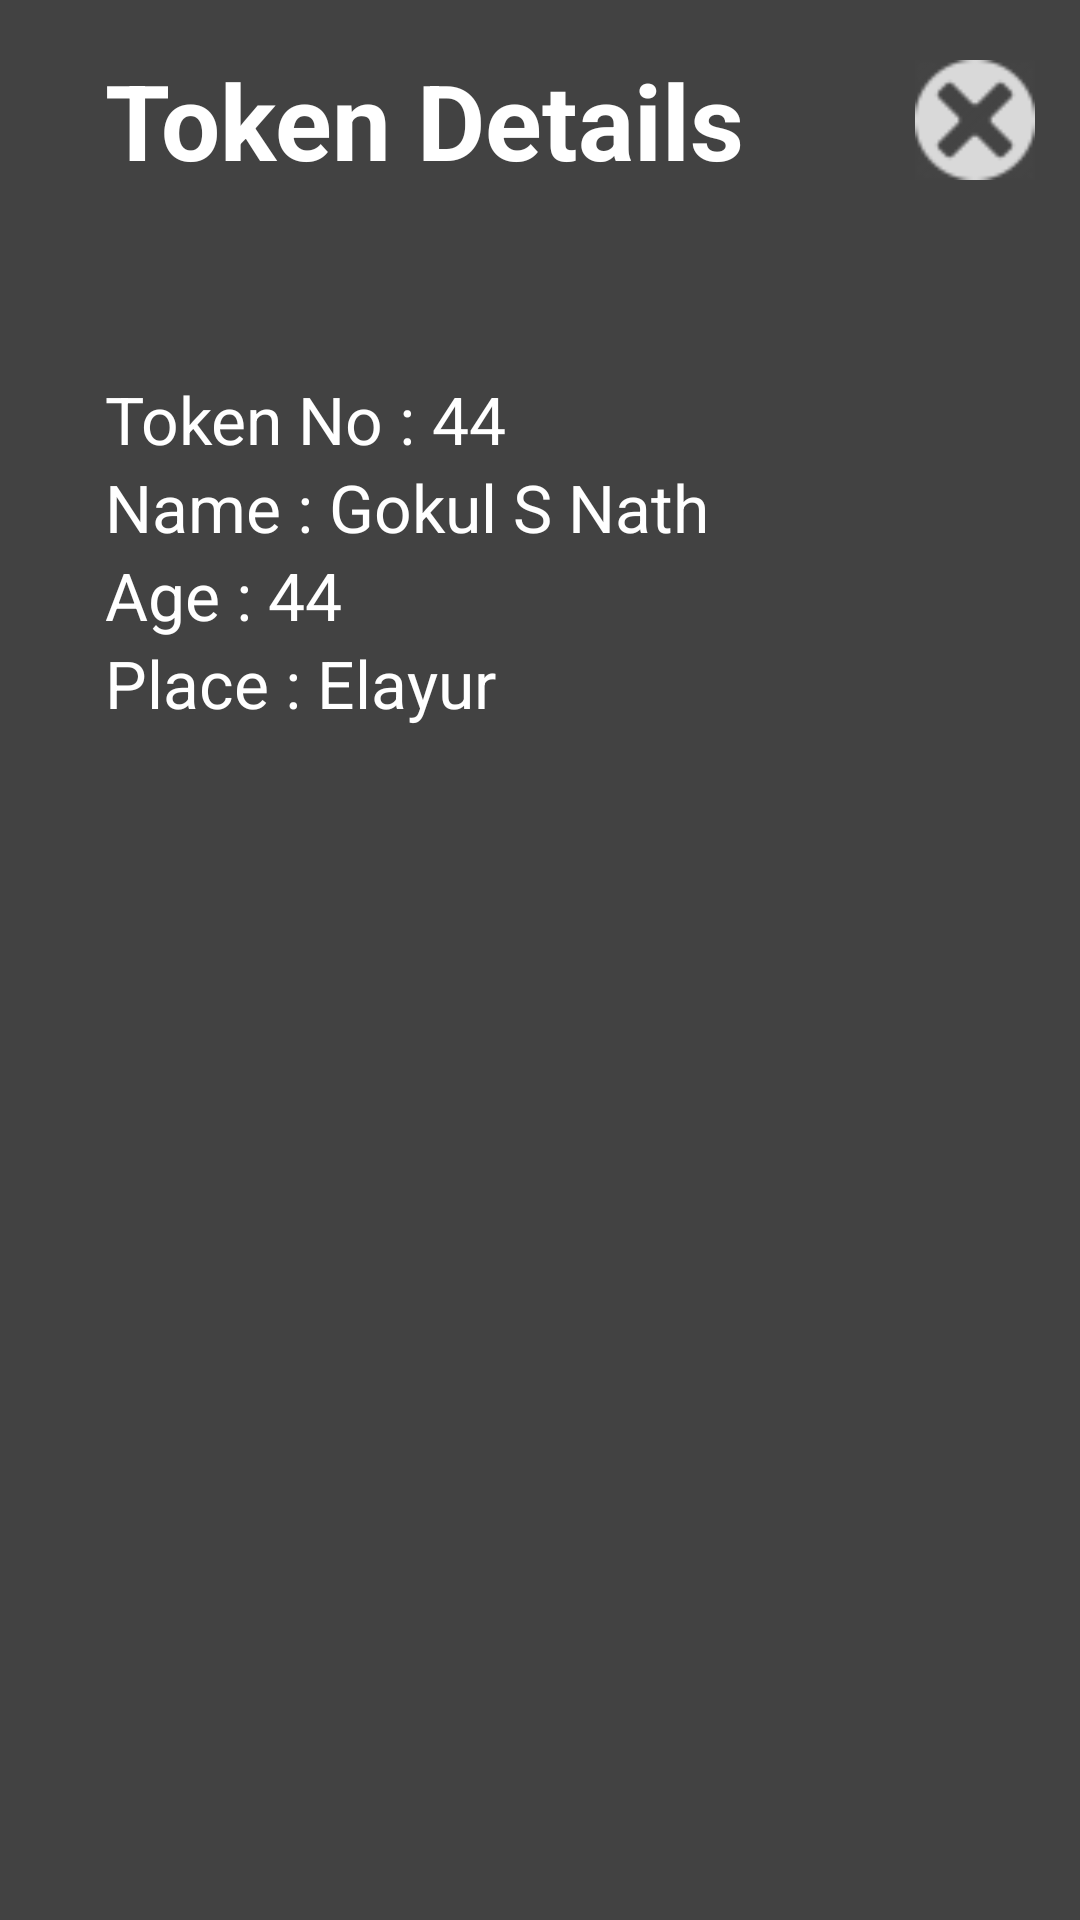

Icons on this 1080px x 1920px Android screen, each with its box as (x1, y1, x2, y2):
close button: (915, 60, 1035, 180)
